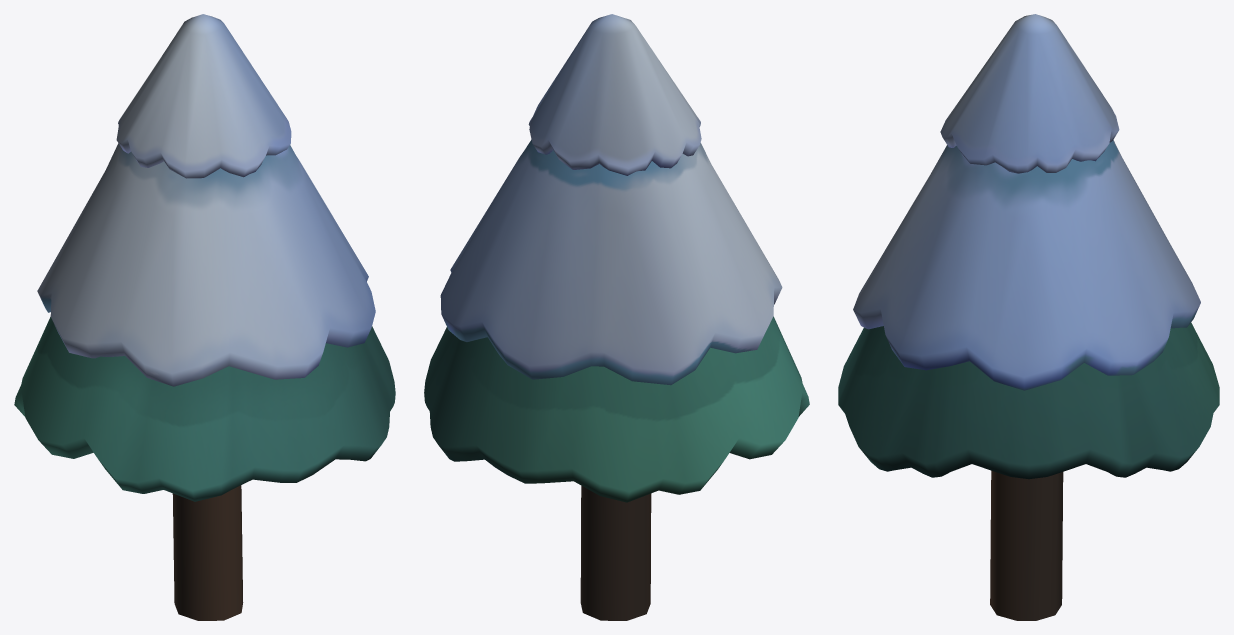
File: RPGBattle_BridgeFloor10_tree1.fbx
3 views of the same model, side by side, from view 1: azimuth 30°, elevation 25°; view 2: azimuth 150°, elevation 25°; view 3: azimuth 270°, elevation 25° (orthographic).
Parts seen in each view (by area): view 1: RPGBattle_BridgeFloor10_tree1; view 2: RPGBattle_BridgeFloor10_tree1; view 3: RPGBattle_BridgeFloor10_tree1.
Boxes of the visible parts, bbox=[...] form: RPGBattle_BridgeFloor10_tree1: bbox=[14, 14, 395, 620]; RPGBattle_BridgeFloor10_tree1: bbox=[424, 14, 809, 620]; RPGBattle_BridgeFloor10_tree1: bbox=[838, 14, 1219, 620].
Bounding box in the file's own units: 608 × 1036 × 605.
1 material, 1 textured.
